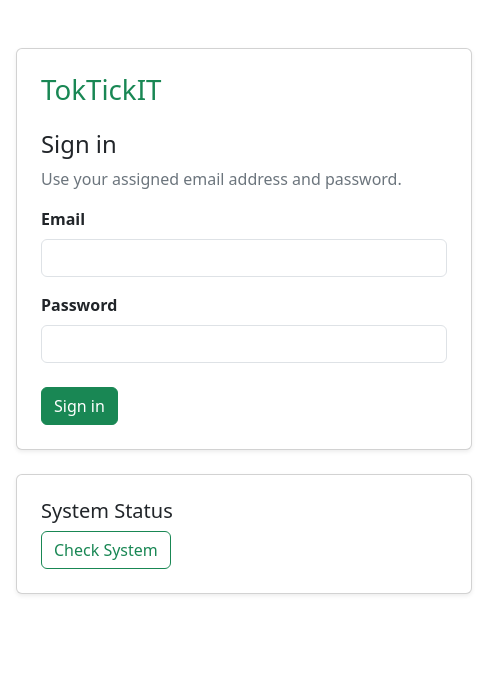
Test: App › shows Online and the categories returned by the API
Click the button "Check System" at point(106, 550), box [41,531,171,569]
(page scrolled)
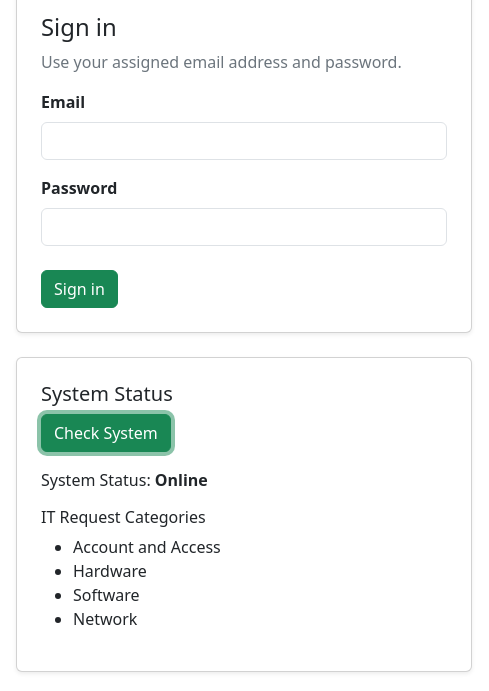
Expected: the text "Online" is shown, [155,469,208,491]
Expected: the heading "IT Request Categories" is shown, [41,506,206,528]
Expected: the number of list items is 4, [73,536,221,558]; [73,560,147,582]; [73,584,140,606]; [73,608,137,630]
